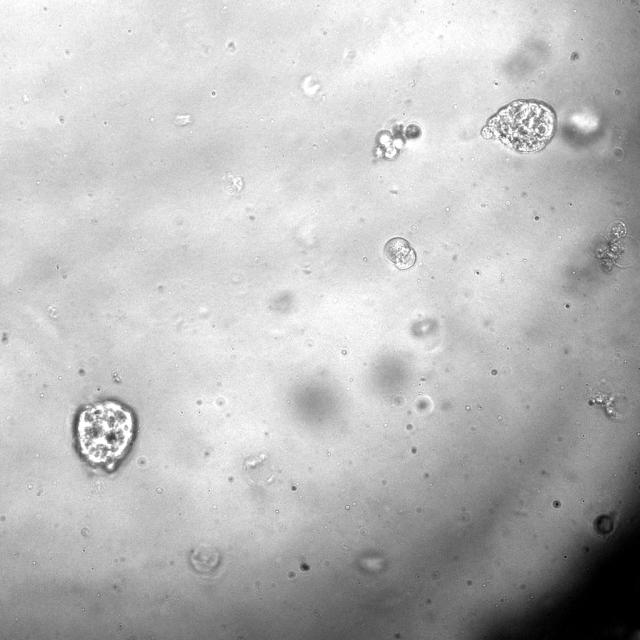organoid: (74, 400, 136, 472), (481, 99, 556, 153), (588, 220, 639, 274), (372, 121, 422, 160), (587, 379, 630, 420), (384, 237, 416, 269), (594, 514, 614, 534)
